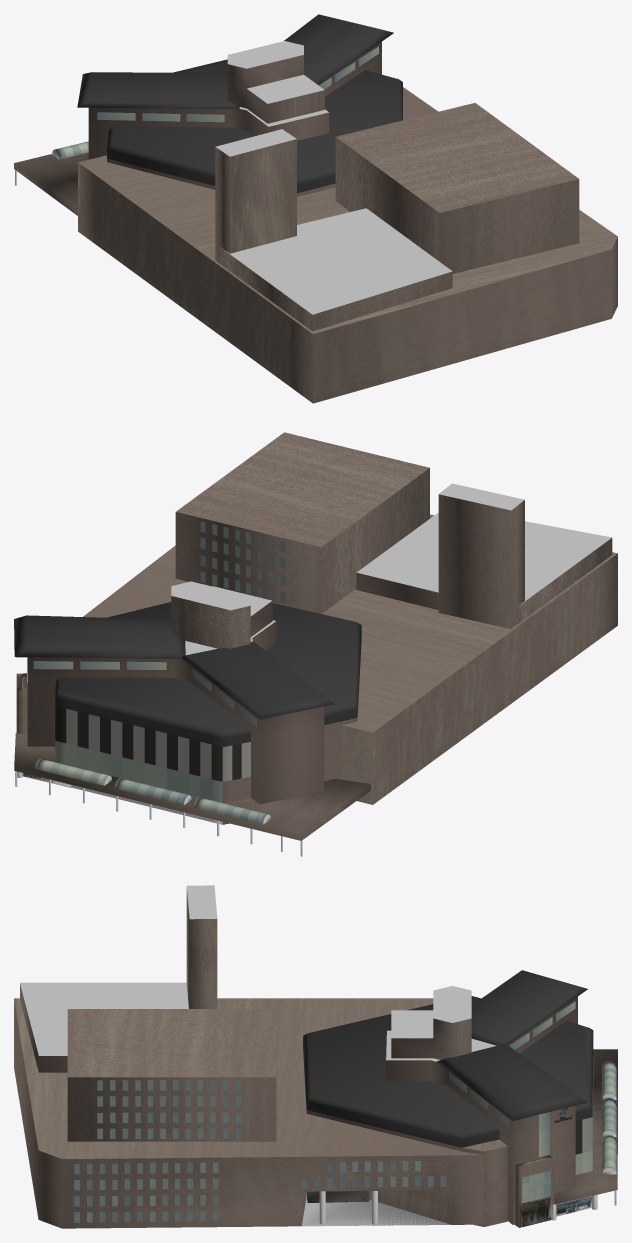
The model's file is casleHotel_ver4.fbx.
The picture shows the model from 3 angles, top to bottom: view 1: azimuth 30°, elevation 25°; view 2: azimuth 150°, elevation 25°; view 3: azimuth 270°, elevation 25°; orthographic projection. The views are drawn at different scales.
Parts seen in each view (by area): view 1: catsle; view 2: catsle; view 3: catsle.
Part boxes in pixels (x1,y1,x2,y2): catsle: (14, 14, 617, 403); catsle: (14, 432, 617, 856); catsle: (14, 885, 617, 1228).
Size of the model in its own units: 17.39 by 9.33 by 27.49.
